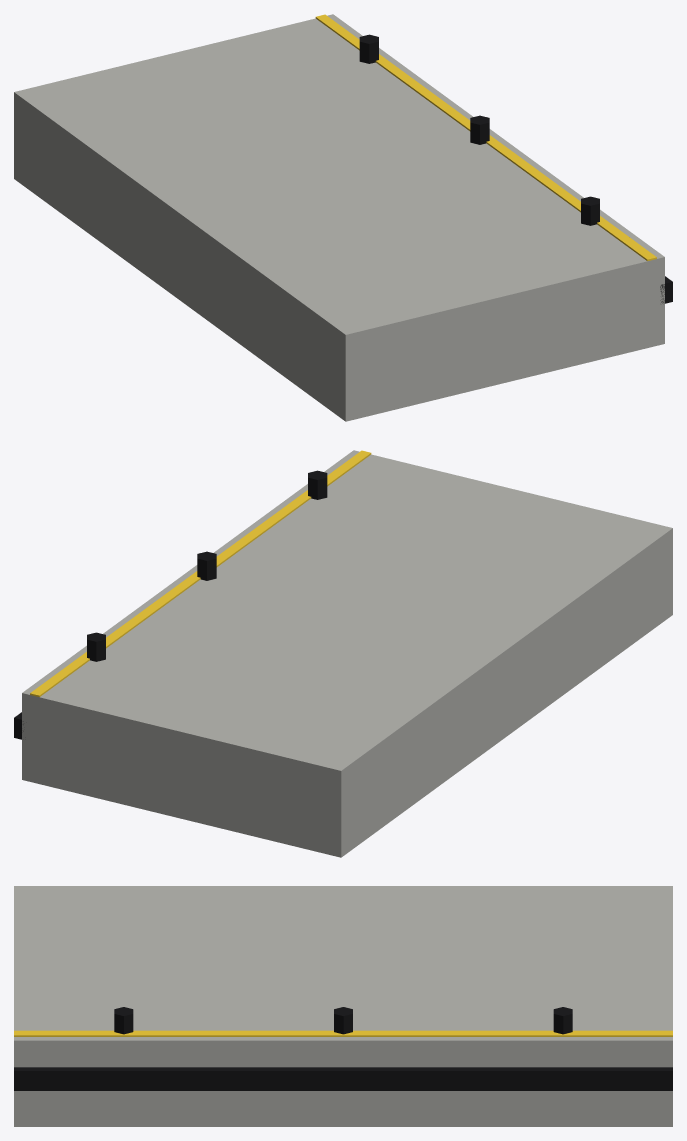
File: muelle_puerto.obj
The picture shows the model from 3 angles, top to bottom: view 1: azimuth 30°, elevation 25°; view 2: azimuth 150°, elevation 25°; view 3: azimuth 270°, elevation 25°; orthographic projection.
Visible parts, largest first — view 1: muelle_puerto; view 2: muelle_puerto; view 3: muelle_puerto.
Part boxes in pixels (x1,y1,x2,y2): muelle_puerto: (14, 14, 672, 421); muelle_puerto: (14, 450, 672, 857); muelle_puerto: (14, 886, 672, 1126).
Size of the model in its own units: 10.25 by 3.2 by 18.
